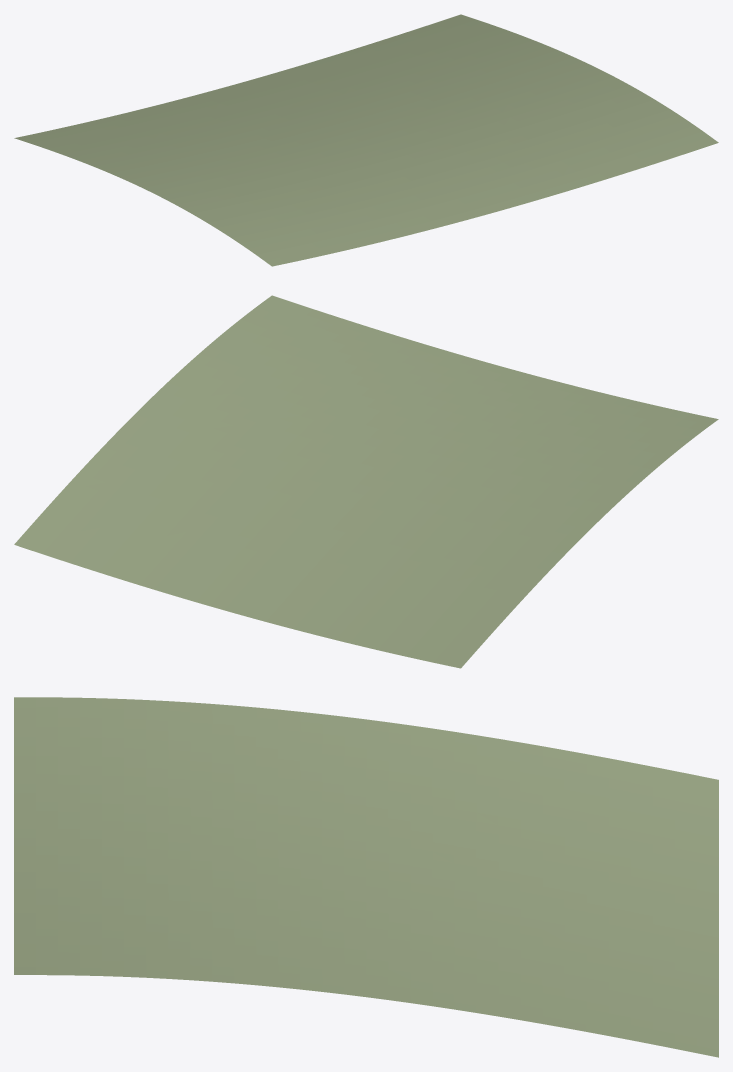
Rendered from valley-13-0.glb.
3 views of the same model, one above another, from view 1: azimuth 30°, elevation 25°; view 2: azimuth 150°, elevation 25°; view 3: azimuth 270°, elevation 25° (orthographic). The views are drawn at different scales.
Parts seen in each view (by area): view 1: valley-13-0; view 2: valley-13-0; view 3: valley-13-0.
Boxes of the visible parts, x1,y1,x2,y2 form: valley-13-0: [14, 14, 718, 266]; valley-13-0: [14, 295, 718, 668]; valley-13-0: [14, 697, 718, 1057].
Bounding box in the file's own units: 256 × 42.33 × 256.
